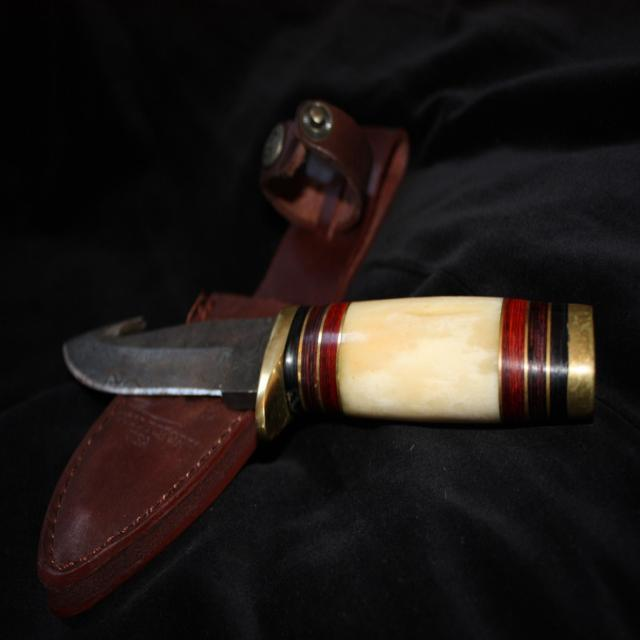Knife: (64, 298, 595, 439)
